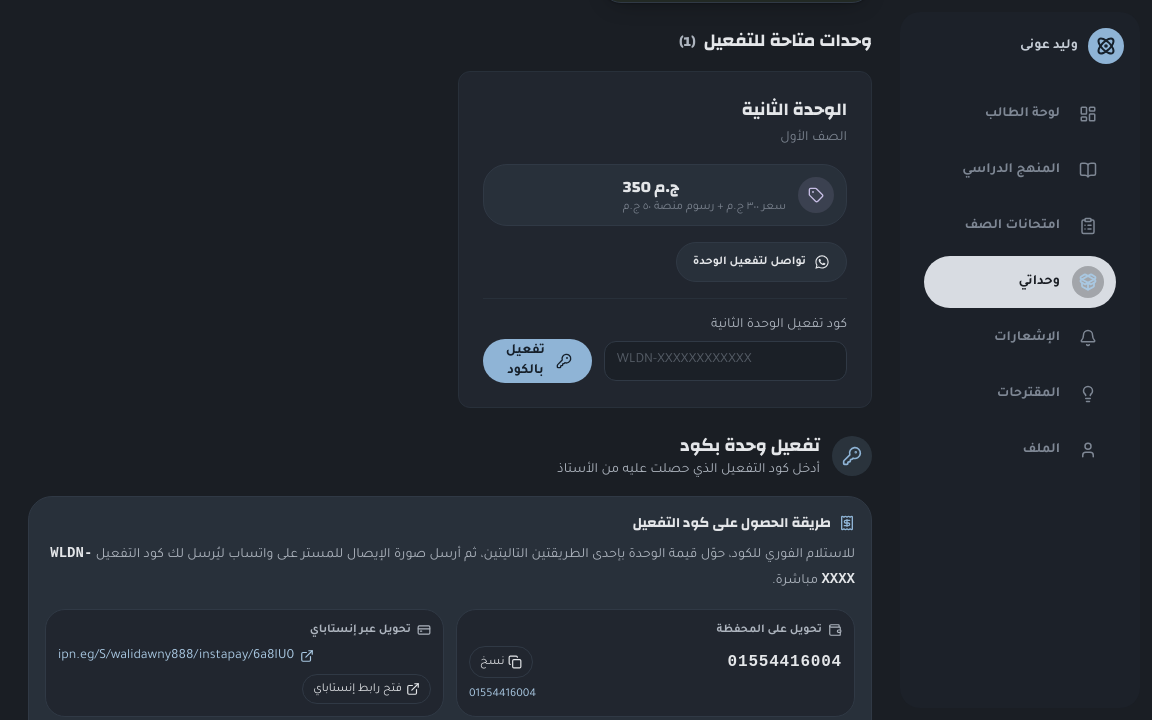
Scenario: UnitsPage › shows a card-level error when redeeming an invalid code from a locked unit card
The image size is (1152, 720).
(page scrolled)
In the field labelled "كود تفعيل الوحدة الثانية": (725, 360) x1=604 y1=340 x2=847 y2=380, type "WLDN-BAD-CODE-0000"
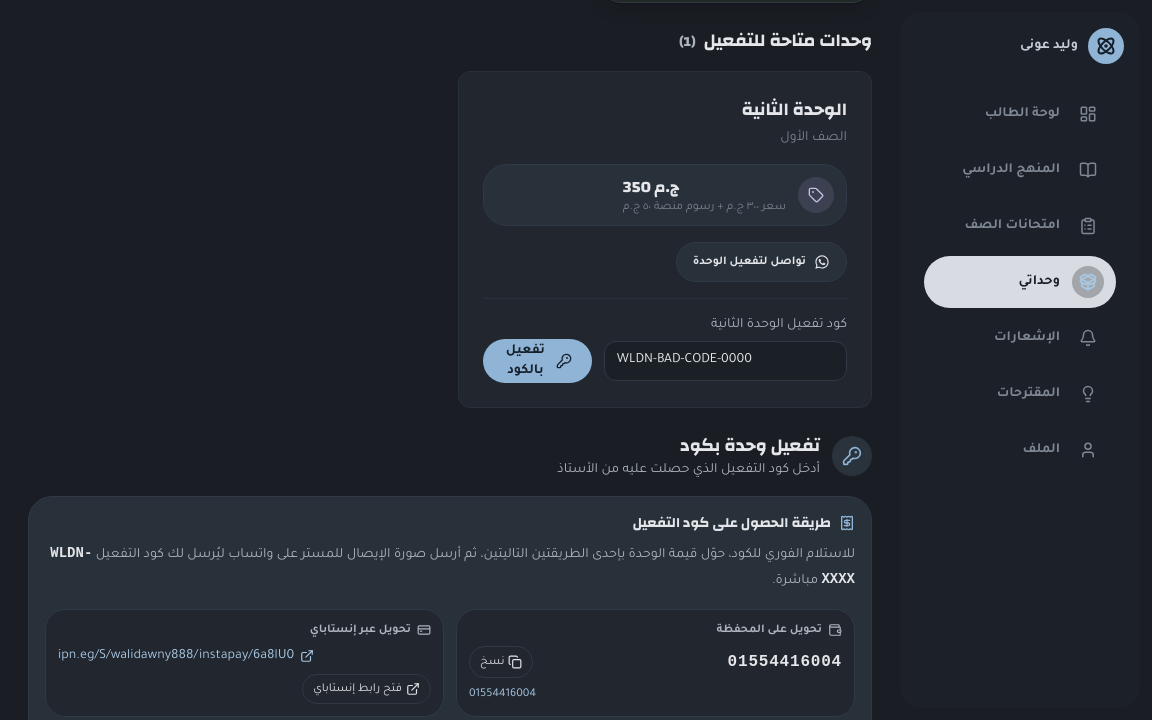
Click the button "تفعيل بالكود": (537, 360) x1=483 y1=338 x2=592 y2=382
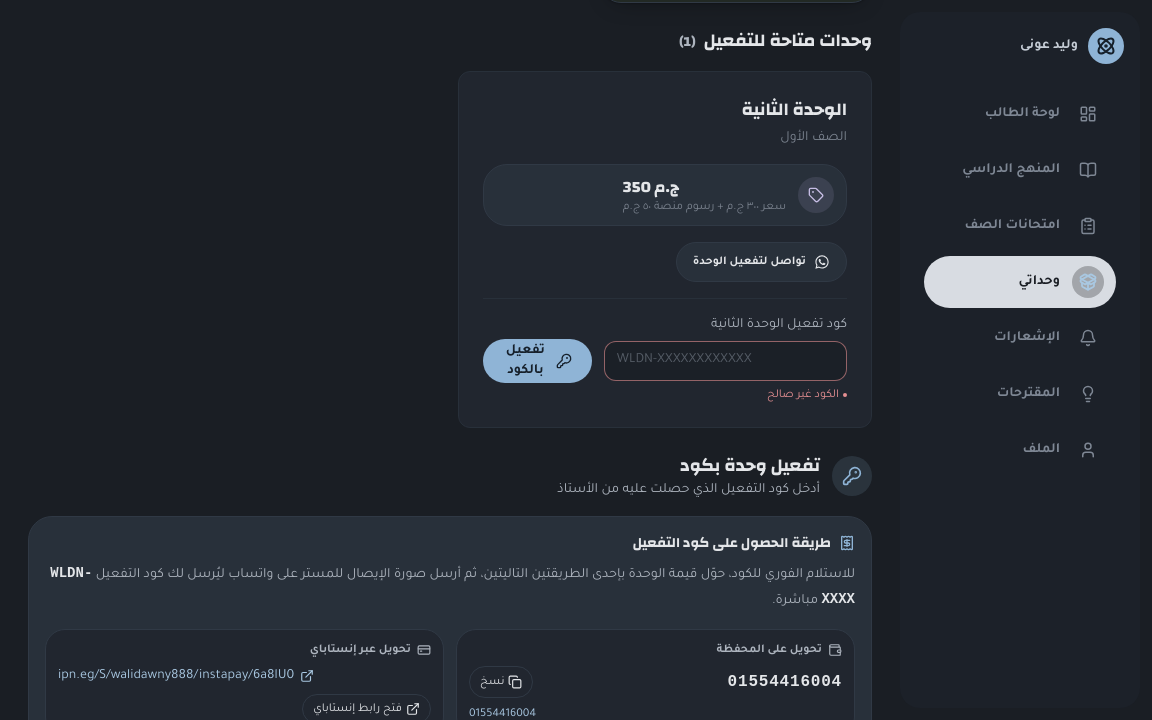
Expected: the text "الكود غير صالح" is shown, x1=767 y1=388 x2=847 y2=400
